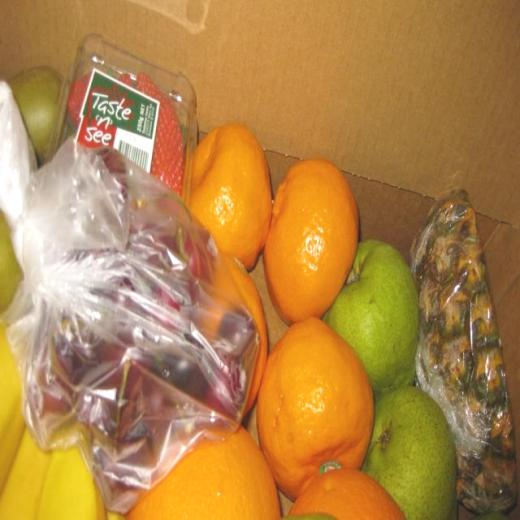Grape: (255, 320, 377, 500), (258, 164, 360, 326), (129, 426, 277, 520), (195, 119, 275, 268), (199, 260, 274, 405), (292, 477, 404, 520)
